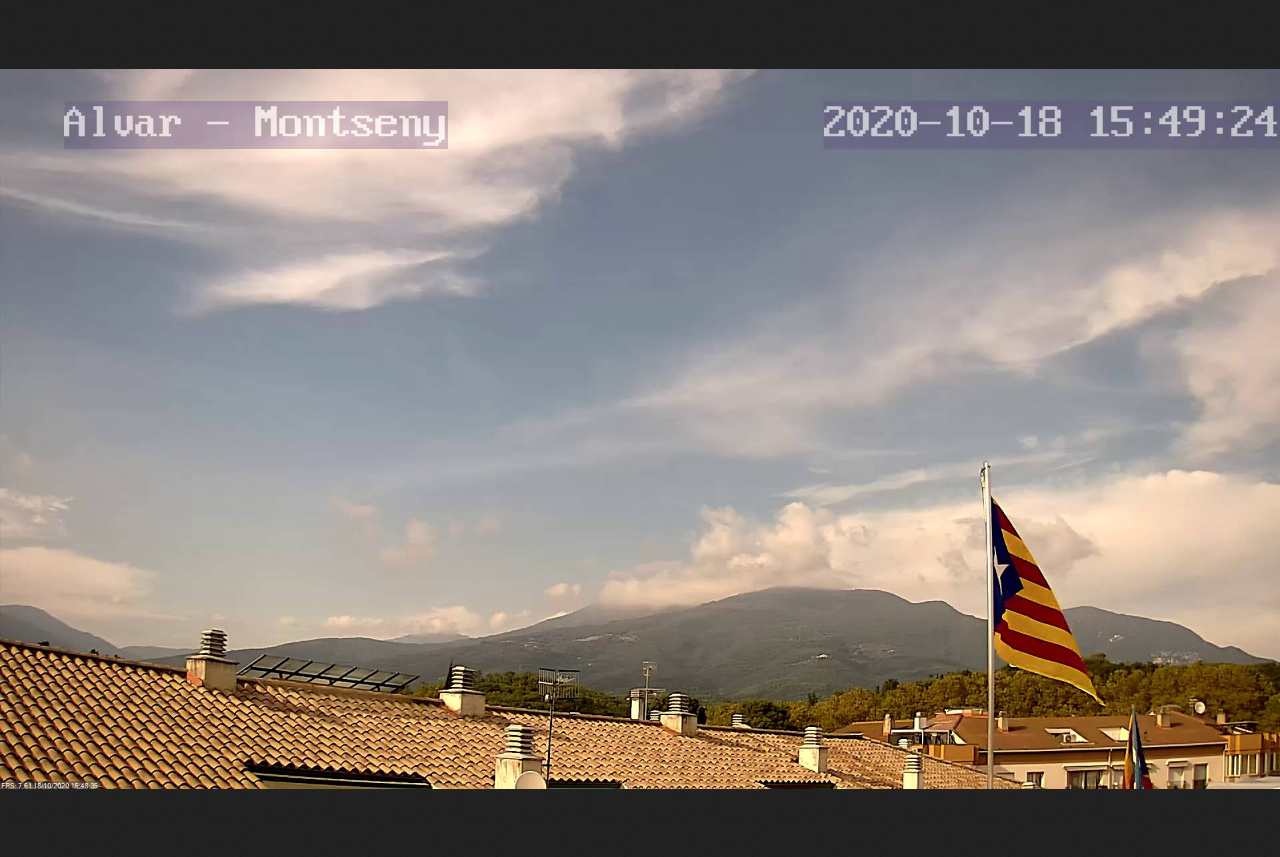maybe: (982, 496, 1105, 710)
